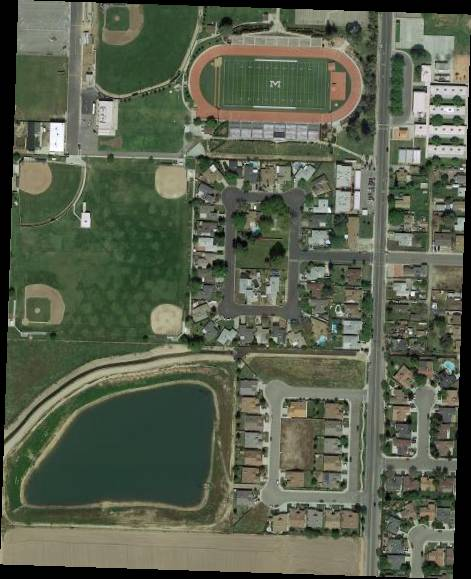baseball diamond: (98, 3, 146, 46), (26, 284, 65, 325), (150, 304, 184, 338), (19, 162, 53, 196), (155, 167, 187, 200)
ground track field: (189, 47, 365, 124)
soccer ball field: (225, 62, 328, 109)
